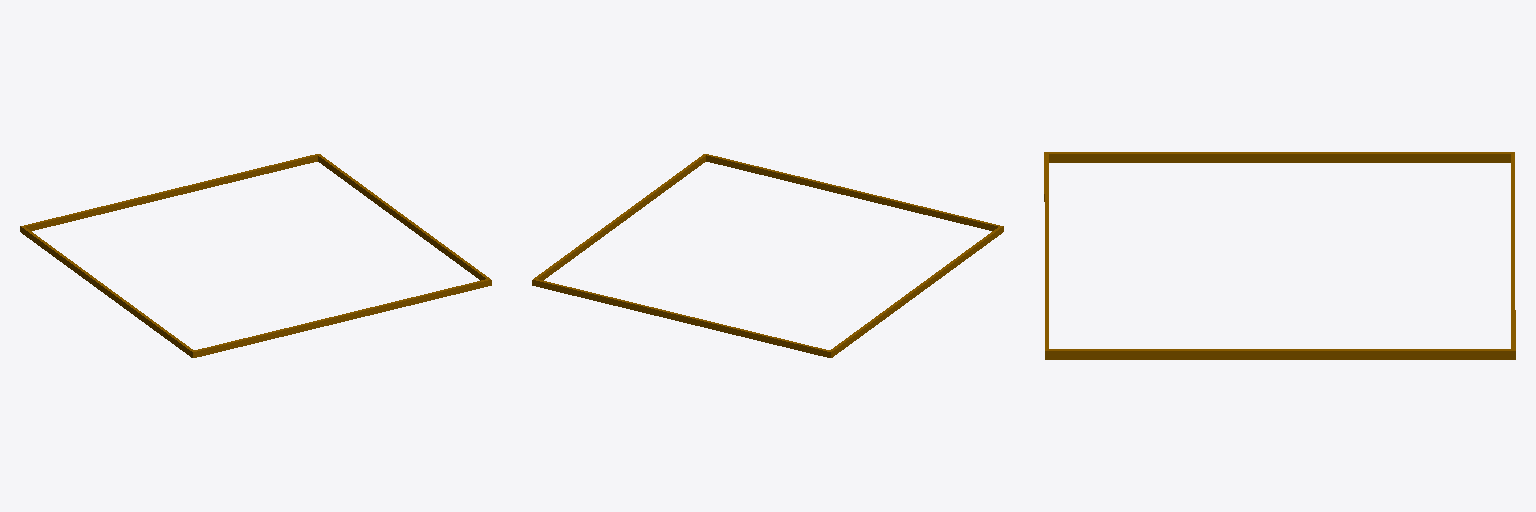
The robot description file, URDF, robot "walls":
<?xml version="1.0"?> 

<!-- Copyright 2023 [author] -->

<!-- Licensed under the Apache License, Version 2.0 (the "License"); -->
<!-- you may not use this file except in compliance with the License. -->
<!-- You may obtain a copy of the License at -->

<!--     http://www.apache.org/licenses/LICENSE-2.0 -->

<!-- Unless required by applicable law or agreed to in writing, software -->
<!-- distributed under the License is distributed on an "AS IS" BASIS, -->
<!-- WITHOUT WARRANTIES OR CONDITIONS OF ANY KIND, either express or implied. -->
<!-- See the License for the specific language governing permissions and -->
<!-- limitations under the License. -->

<!-- Authors: [author], [author] -->

<robot name="walls">
    <link name="north">
        <visual>
            <origin xyz="0 25.25 0" rpy="0 0 1.571"/>
            <geometry>
                <mesh filename='meshes/v0_NS_wall.stl' scale='1 2.428571429 1'/>
            </geometry>
            <material name="brown">
                <color rgba="0.6 0.4 0.0 1"/>
            </material>
        </visual>
        <collision>
            <origin xyz="0 25.25 0" rpy="0 0 1.571" />
            <geometry>
                <mesh filename='meshes/v0_NS_wall.stl' scale='1 2.428571429 1'/>
            </geometry>
        </collision>
        <inertial>
            <mass value="10"/>
            <inertia ixx="0.4" ixy="0.0" ixz="0.0" iyy="0.4" iyz="0.0" izz="0.2" />
        </inertial>
    </link>
    <link name="east">
        <visual>
            <origin xyz="0 -25.25 0" rpy="0 0 0" />
            <geometry>
                <mesh filename='meshes/v0_EW_wall.stl' scale='1 2.5 1'/>
            </geometry>
            <material name="brown">
                <color rgba="0.6 0.4 0.0 1"/>
            </material>
        </visual>
        <collision>
            <origin xyz="0 -25.25 0" rpy="0 0 0" />
            <geometry>
                <mesh filename='meshes/v0_EW_wall.stl' scale='1 2.5 1'/>
            </geometry>
        </collision>
        <inertial>
            <mass value="8"/>
            <inertia ixx="0.4" ixy="0.0" ixz="0.0" iyy="0.4" iyz="0.0" izz="0.2" />
        </inertial>
    </link>
    <joint name="joint1" type="fixed">
        <parent link="north"/>
        <child link="east"/>
        <origin xyz="25.25 25.25 0" rpy="0 0 0" />
    </joint>

    <link name="south">
        <visual>
            <origin xyz="-25.25 -25.25 0" rpy="0 0 1.571" />
            <geometry>
                <mesh filename='meshes/v0_NS_wall.stl' scale='1 2.428571429 1'/>
            </geometry>
            <material name="brown">
                <color rgba="0.6 0.4 0.0 1"/>
            </material>
        </visual>
        <collision>
            <origin xyz="-25.25 -25.25 0" rpy="0 0 1.571" />
            <geometry>
                <mesh filename='meshes/v0_NS_wall.stl' scale='1 2.428571429 1'/>
            </geometry>
        </collision>
        <inertial>
            <mass value="10"/>
            <inertia ixx="0.4" ixy="0.0" ixz="0.0" iyy="0.4" iyz="0.0" izz="0.2" />
        </inertial>
    </link>

    <joint name="joint2" type="fixed">
        <parent link="east"/>
        <child link="south"/>
        <origin xyz="0 -25.25 0" rpy="0 0 0" />
    </joint>
    <link name="west">
        <visual>
            <origin xyz="0 0 0" rpy="0 0 0" />
            <geometry>
                <mesh filename='meshes/v0_EW_wall.stl' scale='1 2.5 1'/>
            </geometry>
            <material name="brown">
                <color rgba="0.6 0.4 0.0 1"/>
            </material>
        </visual>
        <collision>
            <origin xyz="0 0 0" rpy="0 0 0" />
            <geometry>
                <mesh filename='meshes/v0_EW_wall.stl' scale='1 2.5 1'/>
            </geometry>
        </collision>
        <inertial>
            <mass value="8"/>
            <inertia ixx="0.4" ixy="0.0" ixz="0.0" iyy="0.4" iyz="0.0" izz="0.2" />
        </inertial>
    </link>
    <joint name="joint4" type="fixed">
        <parent link="north"/>
        <child link="west"/>
        <origin xyz="-25.25 0 0" rpy="0 0 0" />
    </joint>
</robot>

--- Render facts (derived) ---
Views: 3 orthographic renders of the robot side by side, from view 1: azimuth 30°, elevation 25°; view 2: azimuth 150°, elevation 25°; view 3: azimuth 270°, elevation 25°.
Robot: walls — 4 links, 3 joints (3 fixed); root link north; default pose: all joints at 0.
Links seen in each view (by area): view 1: south, north, west, east; view 2: north, south, west, east; view 3: east, west, north, south.
Boxes of the visible links, x1,y1,x2,y2 form: south: [191, 278, 491, 357]; north: [20, 154, 320, 232]; west: [22, 227, 193, 356]; east: [318, 155, 488, 280]; north: [532, 278, 832, 357]; south: [703, 154, 1003, 232]; west: [830, 227, 1001, 356]; east: [535, 155, 705, 280]; east: [1049, 349, 1510, 359]; west: [1049, 152, 1510, 162]; north: [1511, 152, 1515, 359]; south: [1044, 152, 1048, 359].
Size in the robot's own frame: 51 by 51.01 by 1 metres.
4 mesh visuals loaded from 2 distinct referenced files (2 binary STL).
